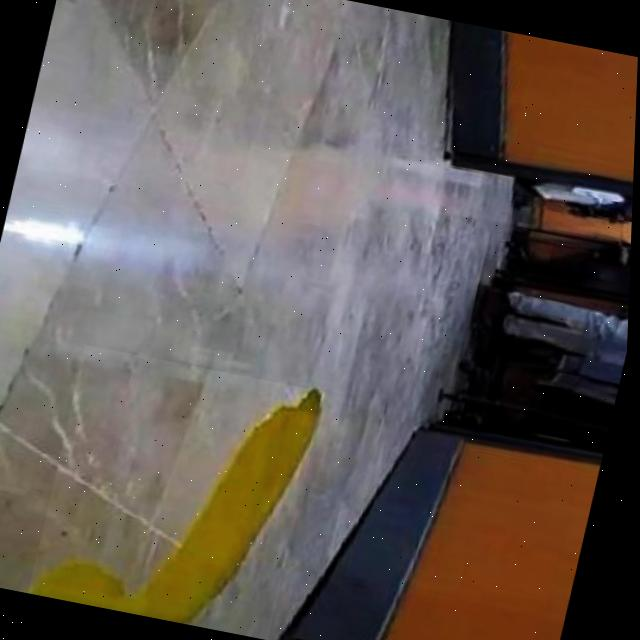spillage: (33, 388, 325, 624)
